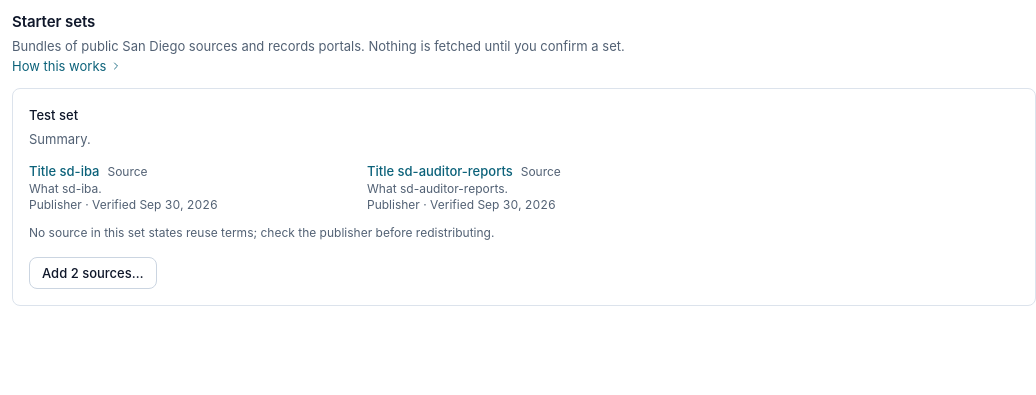
Scenario: StarterSets panel › adds on confirmation, reports a failed source as unavailable, and a second add starts only what is missing
Click the button "Add 2 sources…".
click(93, 273)  # box 29,257 -> 157,289
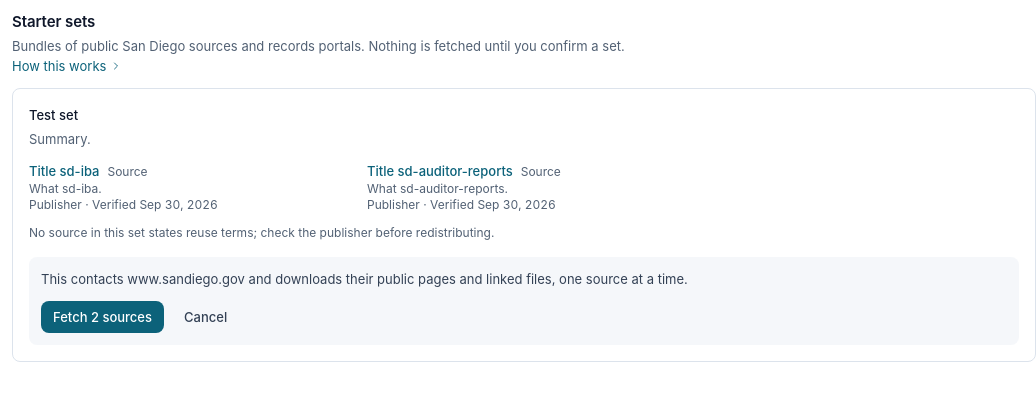
Click the button "Fetch 2 sources".
click(102, 317)  # box 41,301 -> 164,333
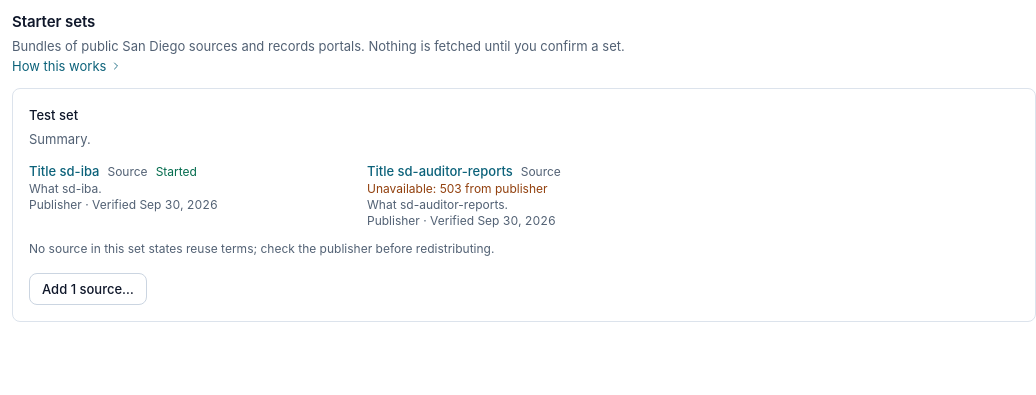
Expected: the message reads "Unavailable: 503 from publisher", 367,181 -> 548,197
Click the button "Add 1 source…".
click(88, 289)  # box 29,273 -> 147,305
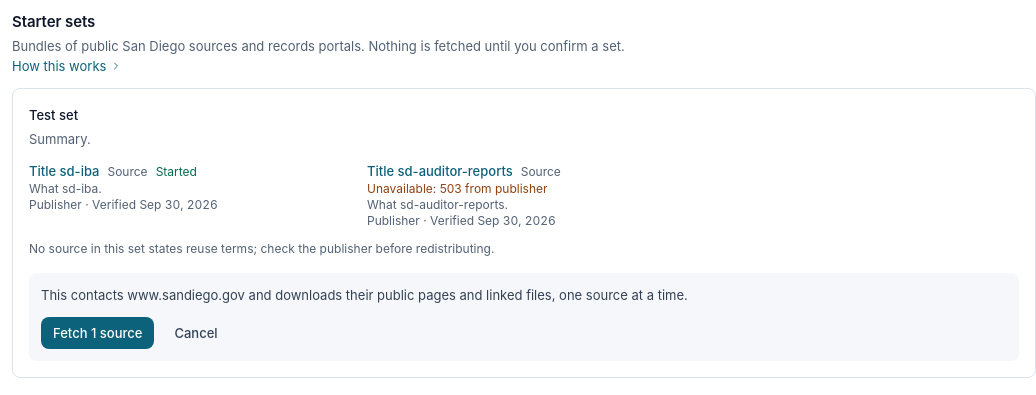
Click the button "Fetch 1 source".
click(98, 333)  # box 41,317 -> 154,349
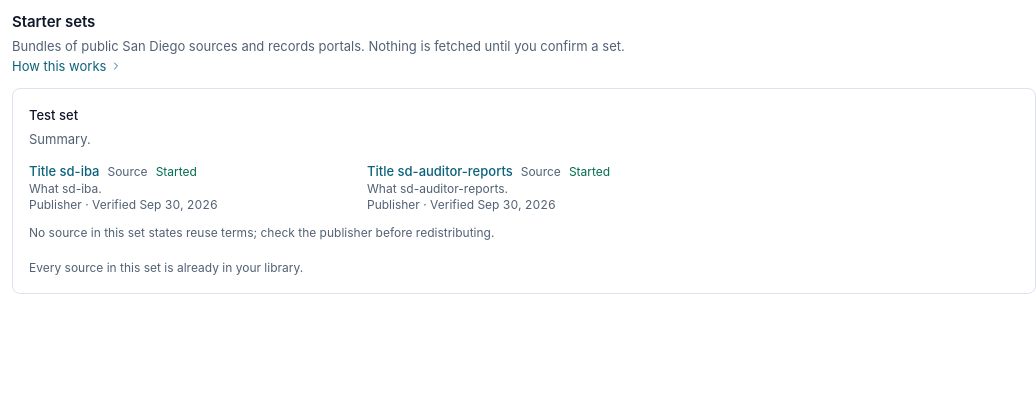
Expected: the text "Every source in this set is already in your library." is shown, 29,260 -> 303,275
